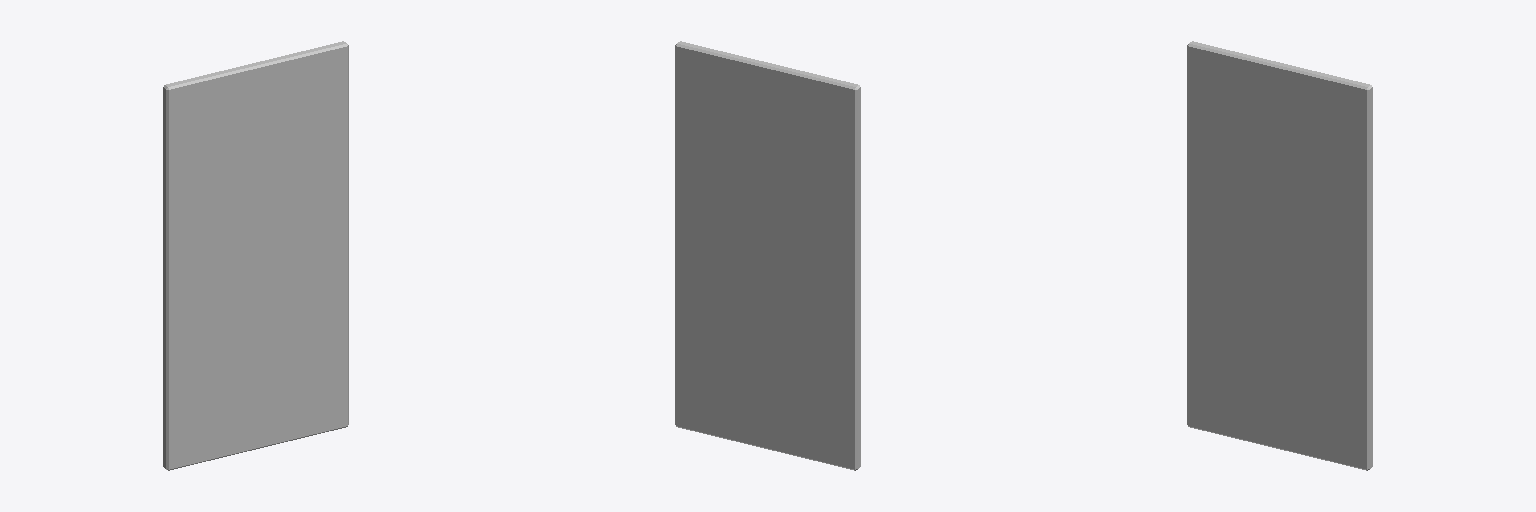
File: panel_2x4.obj
3 views of the same model, side by side, from view 1: azimuth 30°, elevation 25°; view 2: azimuth 150°, elevation 25°; view 3: azimuth 330°, elevation 25° (orthographic).
Visible parts, largest first — view 1: 2x4_white_geo_Plane.008; view 2: 2x4_white_geo_Plane.008; view 3: 2x4_white_geo_Plane.008.
Boxes of the visible parts, x1,y1,x2,y2 form: 2x4_white_geo_Plane.008: [163, 41, 348, 470]; 2x4_white_geo_Plane.008: [675, 41, 860, 470]; 2x4_white_geo_Plane.008: [1187, 41, 1372, 470].
Size of the model in its own units: 1.98 by 3.98 by 0.1.